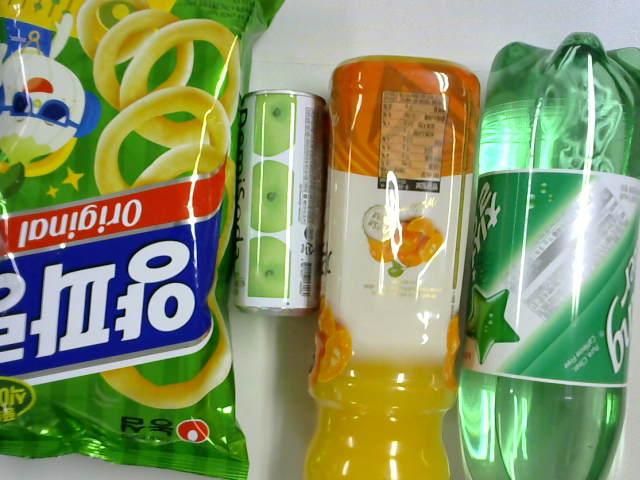Chilseong_Cider_1.5L: (455, 36, 640, 471)
Demisoda_Apple_Can_250ml: (231, 92, 325, 316)
Jeju_Tangerine_1.5L: (311, 48, 482, 480)
Oninon_Ring: (1, 4, 254, 480)
